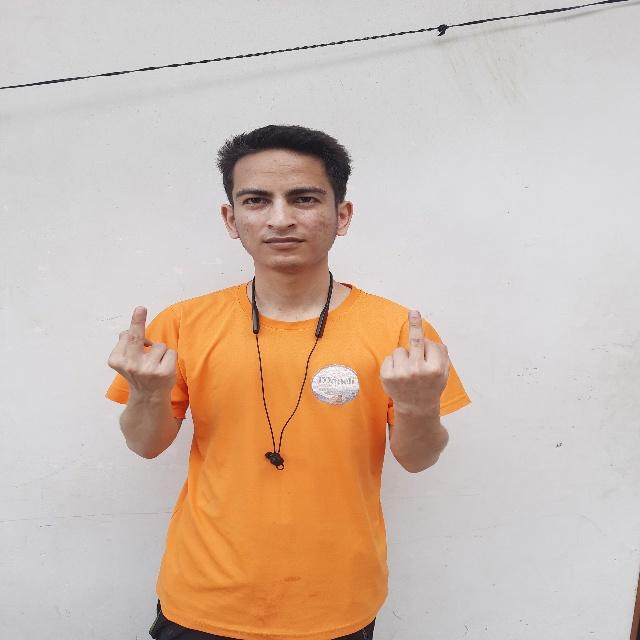Middle Finger: (372, 305, 456, 412), (108, 300, 180, 409)
